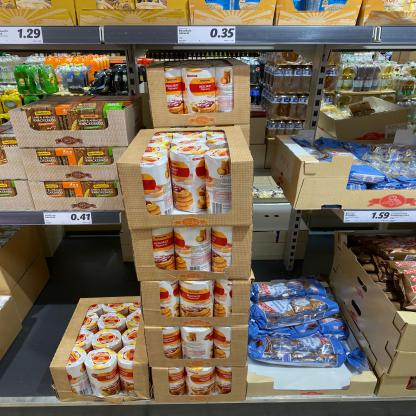prtg: (179, 27, 237, 44), (1, 28, 45, 45), (45, 213, 94, 226), (345, 212, 392, 224), (390, 212, 416, 224)
